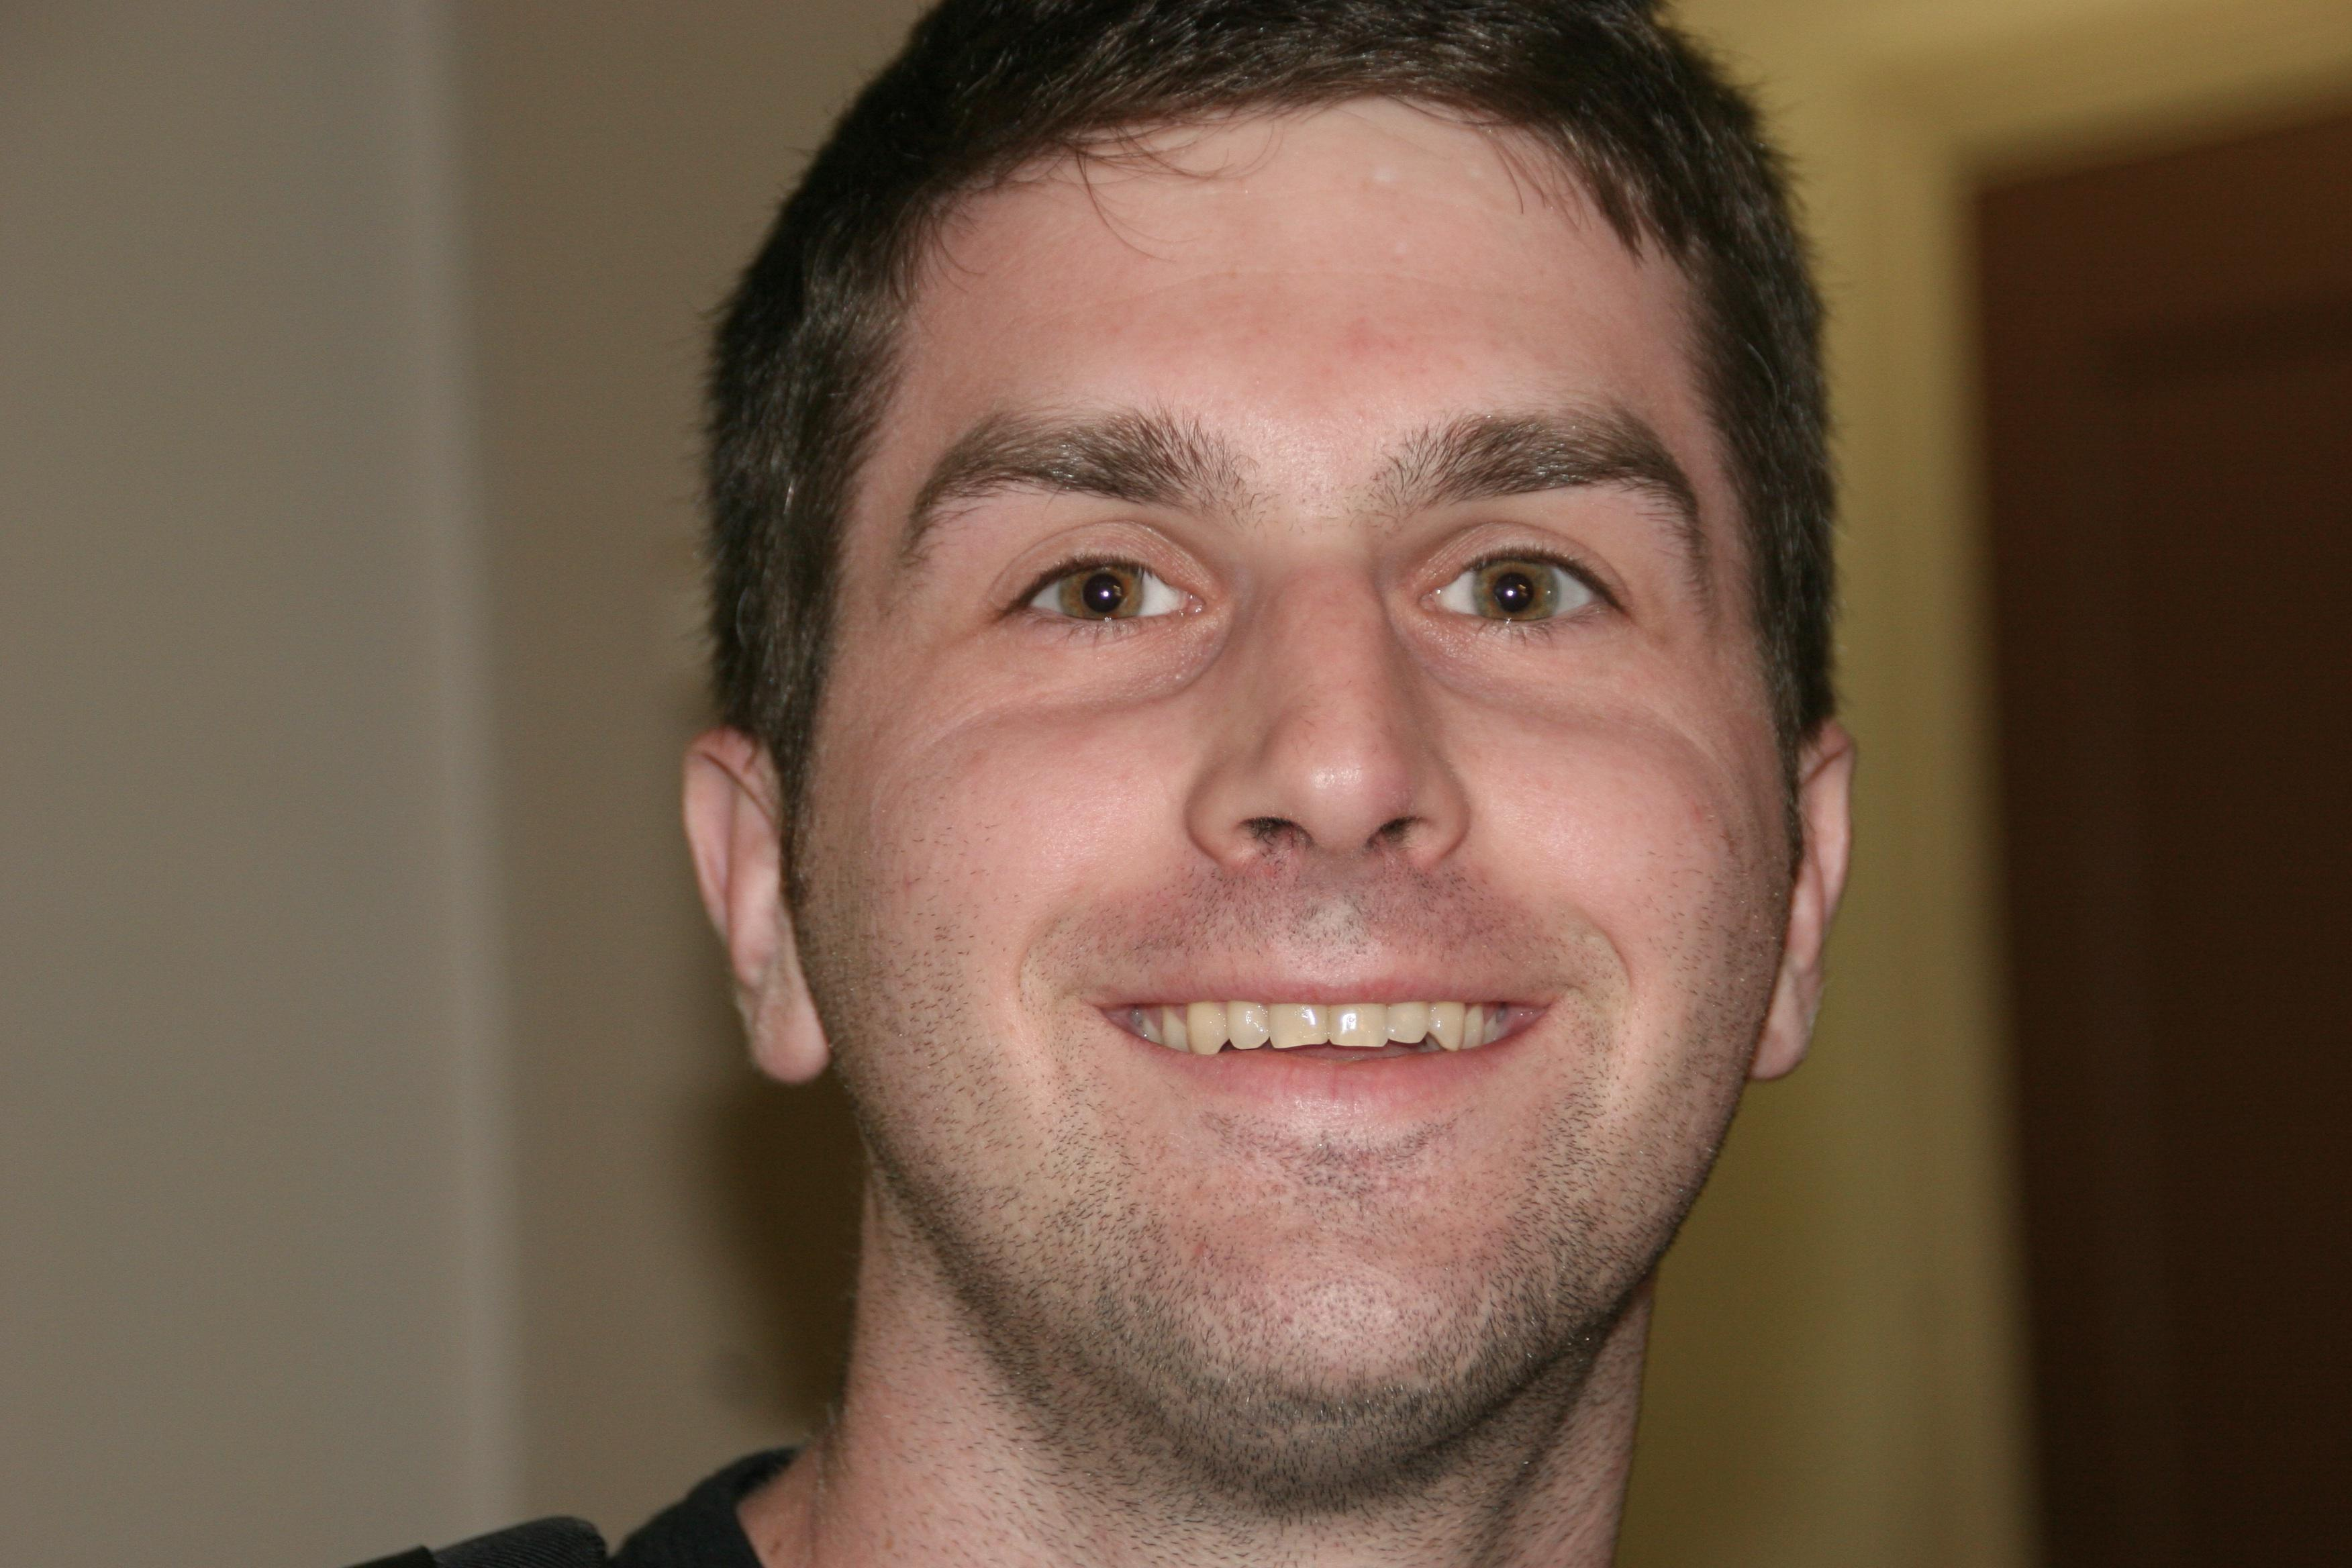Sober: (873, 156, 1739, 1269)
